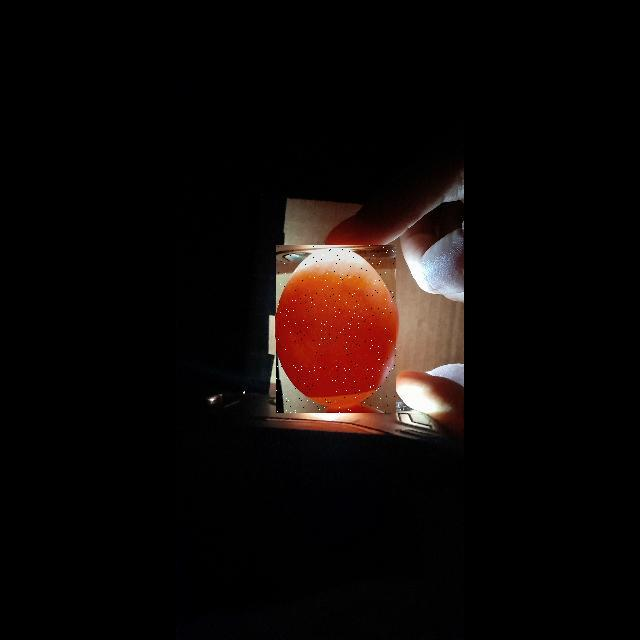Fertile: (276, 245, 396, 413)
